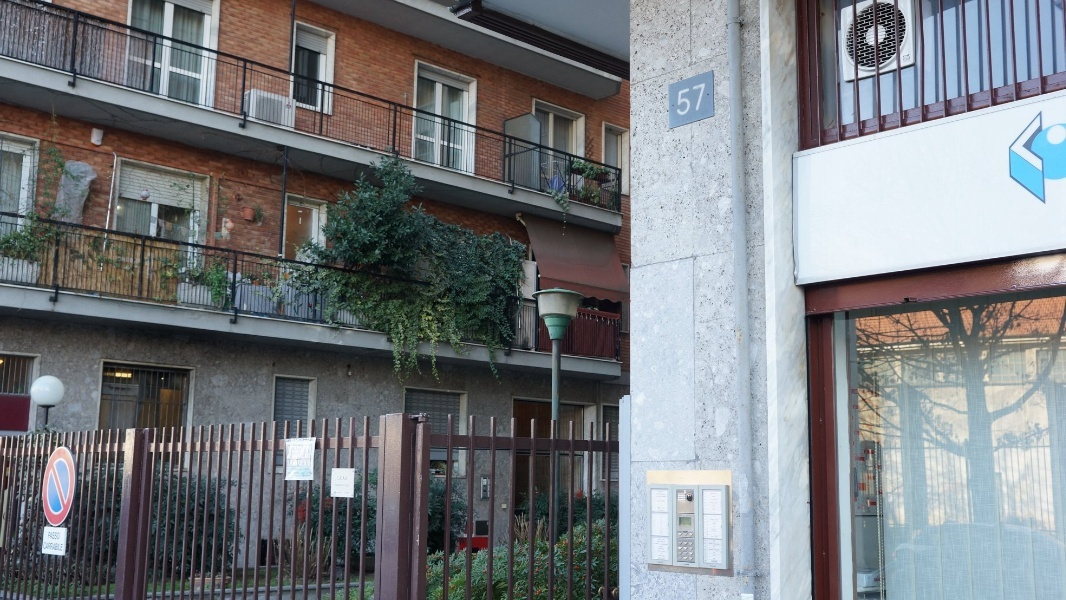text: (689, 82, 704, 117), (679, 82, 688, 117), (289, 446, 304, 467), (49, 541, 64, 551), (305, 446, 311, 467), (49, 531, 61, 540), (337, 476, 352, 481), (44, 541, 48, 551), (337, 484, 350, 487), (705, 82, 706, 117), (335, 484, 336, 487)
